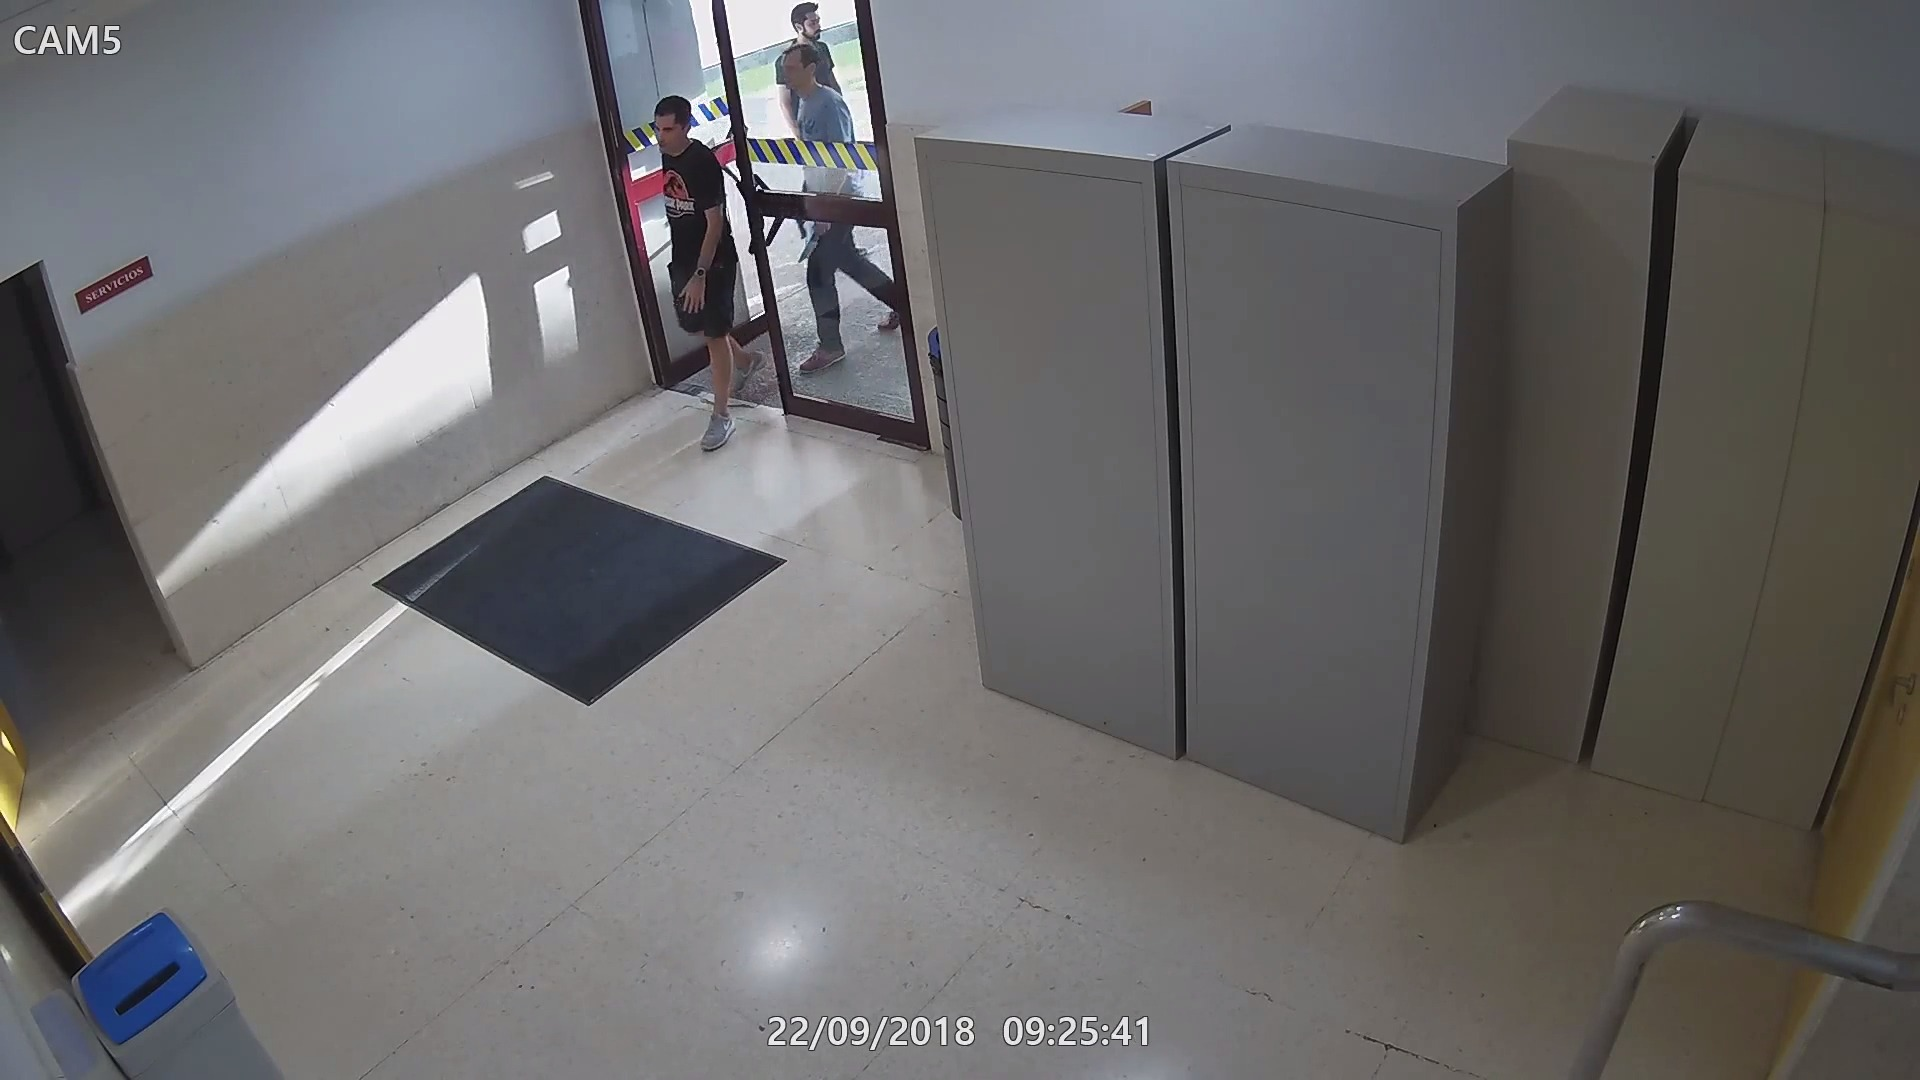Handgun: (760, 218, 787, 248)
Knife: (790, 218, 829, 270)
